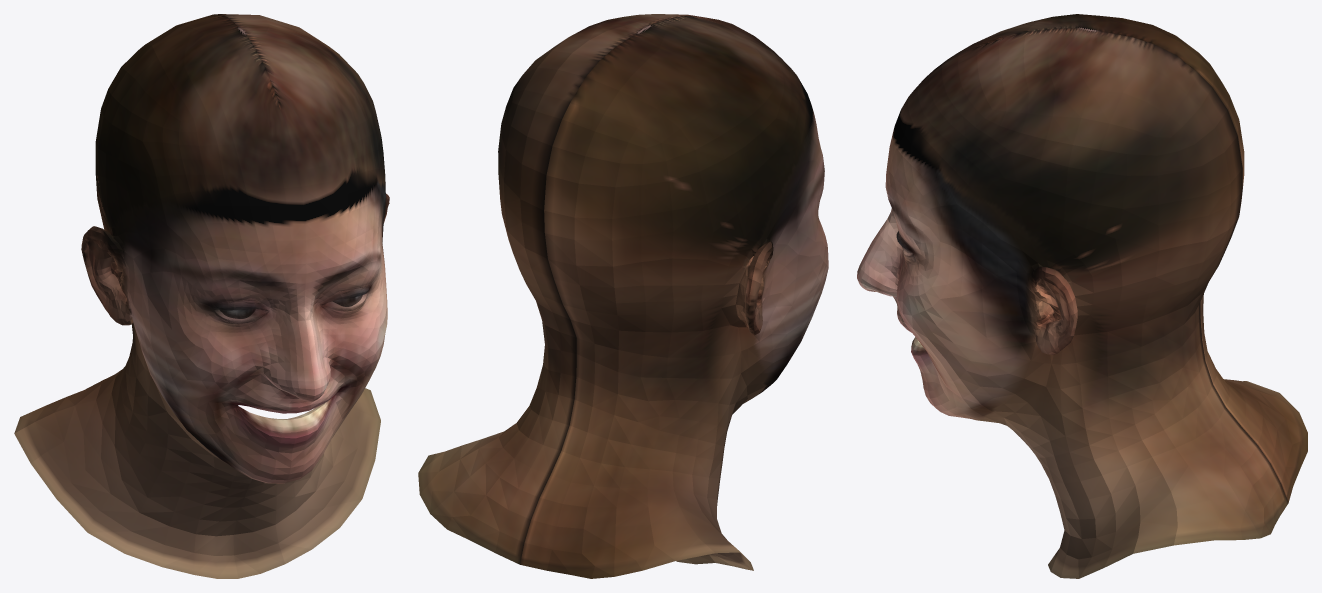
File: face_video_frame0340.obj
The picture shows the model from 3 angles, left to right: view 1: azimuth 30°, elevation 25°; view 2: azimuth 150°, elevation 25°; view 3: azimuth 270°, elevation 25°; orthographic projection.
Bounding box in the file's own units: 0.2069 × 0.3248 × 0.2485.
Materials: 1 (1 with a texture image).
